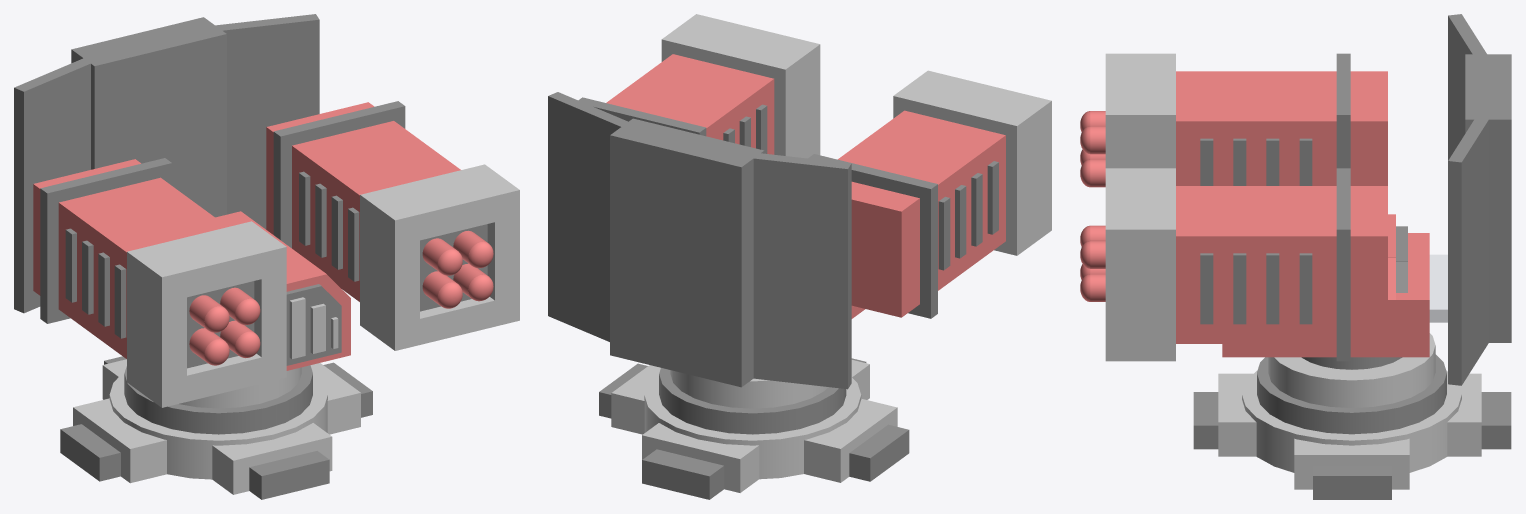
Rendered from turret_2.fbx.
3 renders of one model, left to right at view 1: azimuth 30°, elevation 25°; view 2: azimuth 150°, elevation 25°; view 3: azimuth 270°, elevation 25°, orthographic.
Parts seen in each view (by area): view 1: turret_2; view 2: turret_2; view 3: turret_2.
Boxes of the visible parts, x1=… form: turret_2: x1=14, y1=14, x2=519, y2=499; turret_2: x1=548, y1=14, x2=1051, y2=499; turret_2: x1=1080, y1=14, x2=1511, y2=499.
Size of the model in its own units: 114 by 104 by 118.
